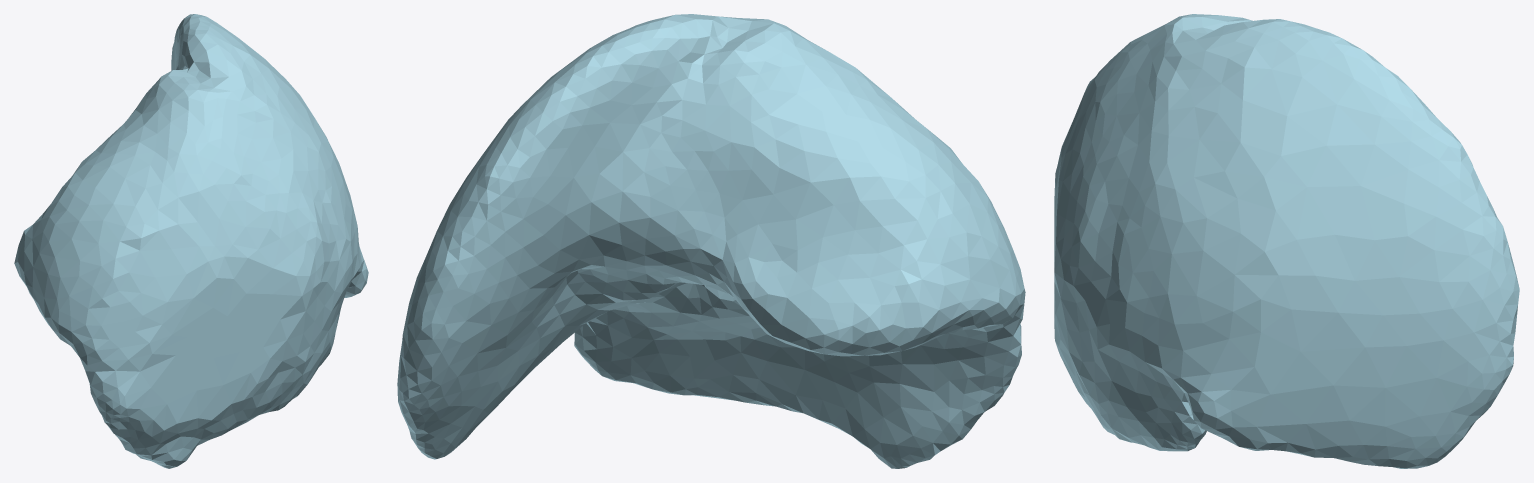
Rendered from spleen.obj.
3 renders of one model, left to right at view 1: azimuth 30°, elevation 25°; view 2: azimuth 150°, elevation 25°; view 3: azimuth 270°, elevation 25°, orthographic. The views are drawn at different scales.
Visible parts, largest first — view 1: grp1; view 2: grp1; view 3: grp1.
Boxes of the visible parts, x1=… form: grp1: x1=14, y1=14, x2=368, y2=468; grp1: x1=397, y1=14, x2=1025, y2=468; grp1: x1=1054, y1=14, x2=1519, y2=468.
Size of the model in its own units: 76.1 by 75.32 by 72.15.
